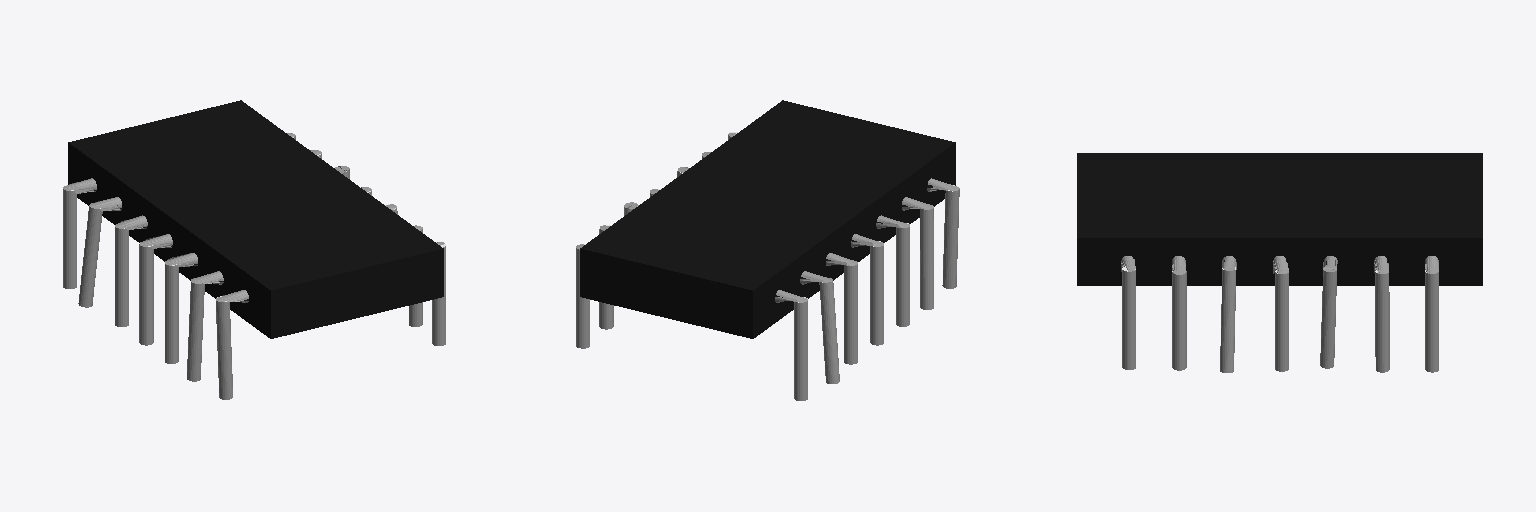
Rendered from entegre.obj.
3 renders of one model, left to right at view 1: azimuth 30°, elevation 25°; view 2: azimuth 150°, elevation 25°; view 3: azimuth 270°, elevation 25°, orthographic.
Visible parts, largest first — view 1: Mesh1 Model; view 2: Mesh1 Model; view 3: Mesh1 Model.
Boxes of the visible parts, <box> form: Mesh1 Model: <box>63,100,445,399</box>; Mesh1 Model: <box>576,100,959,400</box>; Mesh1 Model: <box>1077,153,1482,372</box>.
Size of the model in its own units: 4916 by 2295 by 6962.